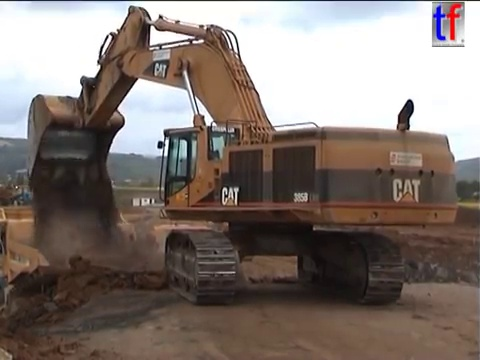excavator: (23, 3, 462, 308)
truck: (1, 201, 179, 341), (148, 219, 240, 293)
